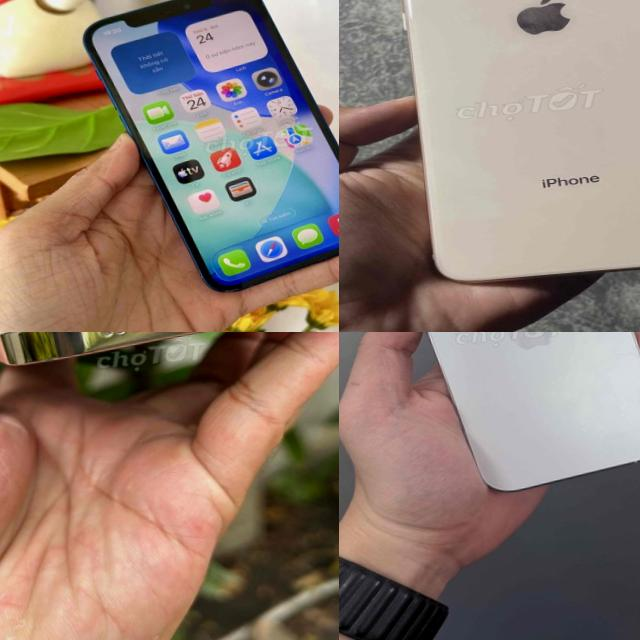gen_12_13: (75, 0, 339, 304)
gen_14: (378, 332, 640, 502), (0, 332, 339, 368)
gen_7_8: (375, 0, 640, 306)
